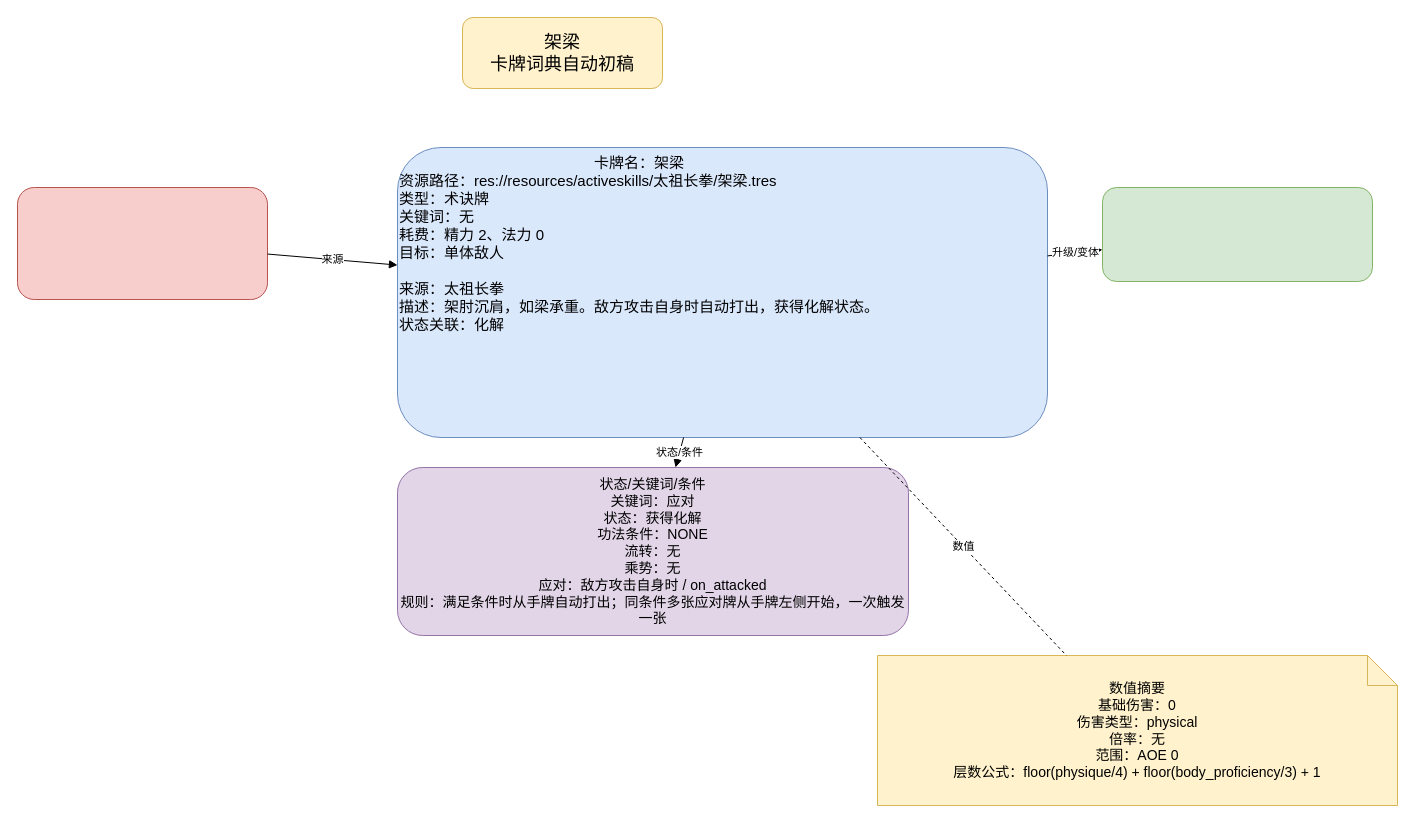
This 1415x823 diagram has some shape labels left out. Each missing label, with the centre of its shape:
升级/变体预留 可在此补：升级牌 / 主修强化版 / 化法后新牌 同系：太祖长拳: the point at 1237,234
来源/前置 来源分类：太祖长拳 来源秘籍：太祖长拳 可在此补：前置牌 / 被替换牌 / 基础牌来源: the point at 142,243
